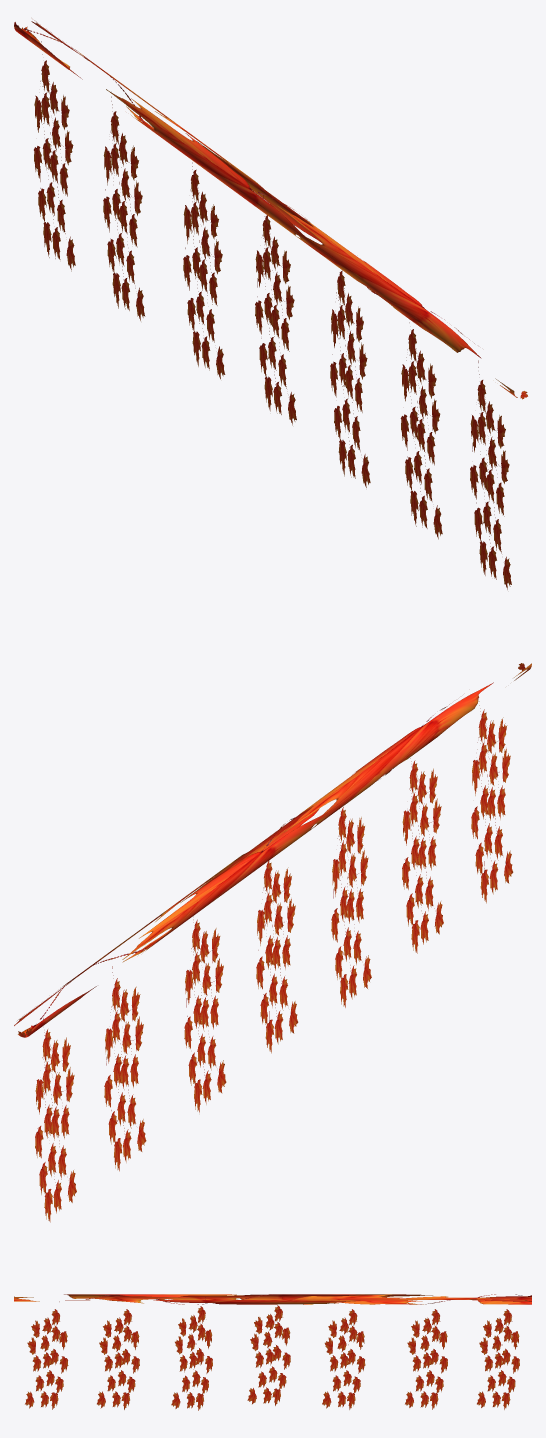
3 renders of one model, top to bottom at view 1: azimuth 30°, elevation 25°; view 2: azimuth 150°, elevation 25°; view 3: azimuth 270°, elevation 25°, orthographic. The views are drawn at different scales.
Parts seen in each view (by area): view 1: all:pCylinder54, all:pPlane7, all:pPlane6, all:pPlane2, all:pPlane5, all:pPlane8, all:pPlane3, all:pPlane9; view 2: all:pCylinder54, all:pPlane2, all:pPlane3, all:pPlane8, all:pPlane5, all:pPlane7, all:pPlane9, all:pPlane6; view 3: all:pCylinder54, all:pPlane6, all:pPlane2, all:pPlane7, all:pPlane5, all:pPlane8, all:pPlane3, all:pPlane9.
Boxes of the visible parts, box(x1,y1,x2,y2) form: all:pCylinder54: box(14, 20, 527, 399); all:pPlane7: box(103, 96, 145, 320); all:pPlane6: box(183, 162, 225, 379); all:pPlane2: box(470, 360, 511, 589); all:pPlane5: box(255, 195, 296, 425); all:pPlane8: box(34, 41, 75, 271); all:pPlane3: box(400, 322, 442, 539); all:pPlane9: box(330, 270, 370, 487); all:pCylinder54: box(14, 663, 531, 1037); all:pPlane2: box(471, 701, 513, 903); all:pPlane3: box(402, 758, 443, 953); all:pPlane8: box(35, 1018, 76, 1222); all:pPlane5: box(256, 861, 298, 1053); all:pPlane7: box(104, 966, 146, 1171); all:pPlane9: box(331, 807, 371, 1007); all:pPlane6: box(184, 916, 226, 1112); all:pCylinder54: box(14, 1294, 531, 1304); all:pPlane6: box(322, 1309, 365, 1409); all:pPlane2: box(25, 1301, 68, 1409); all:pPlane7: box(405, 1301, 447, 1409); all:pPlane5: box(247, 1297, 290, 1405); all:pPlane8: box(477, 1309, 519, 1409); all:pPlane3: box(97, 1309, 139, 1409); all:pPlane9: box(171, 1297, 212, 1410).
Size of the model in its own units: 0.00195 by 0.0261 by 0.0948.
